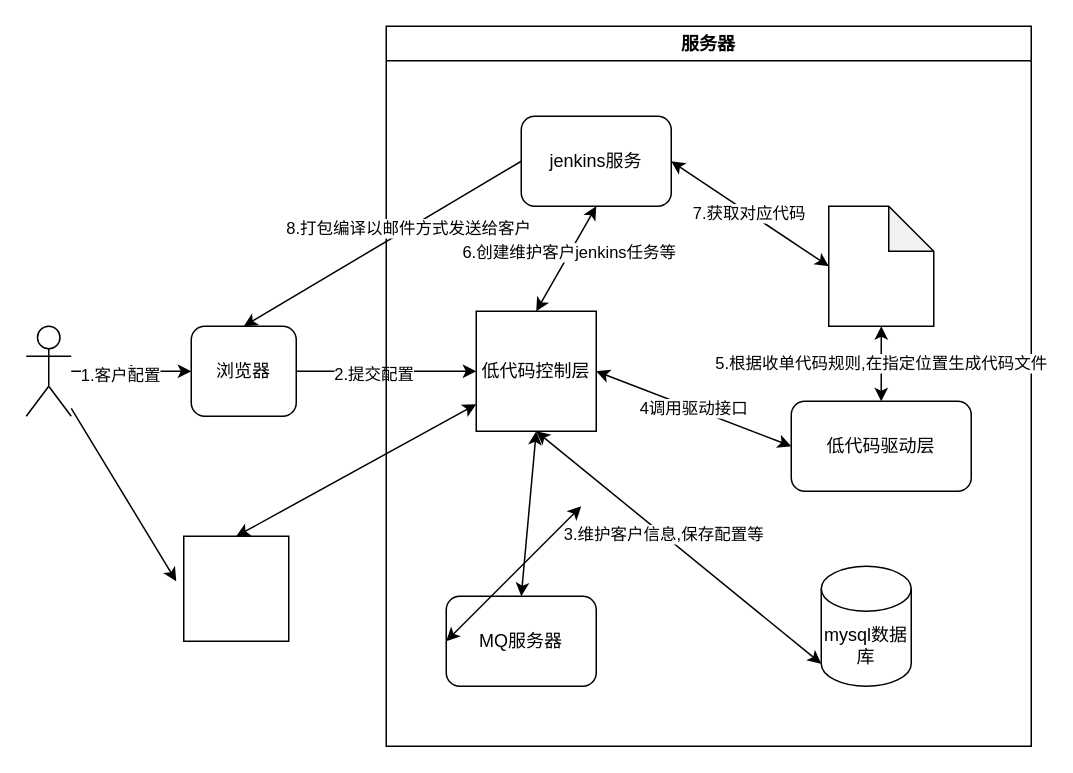
This 1073x773 diagram has some shape labels left out. Here are the shapes that lost their labels. From the top down, the centre of each, then its label:
At (880,265): "收单代码".
At (48,370): "Actor".
At (235,588): "二期手机端实时展示配置界面效果".
